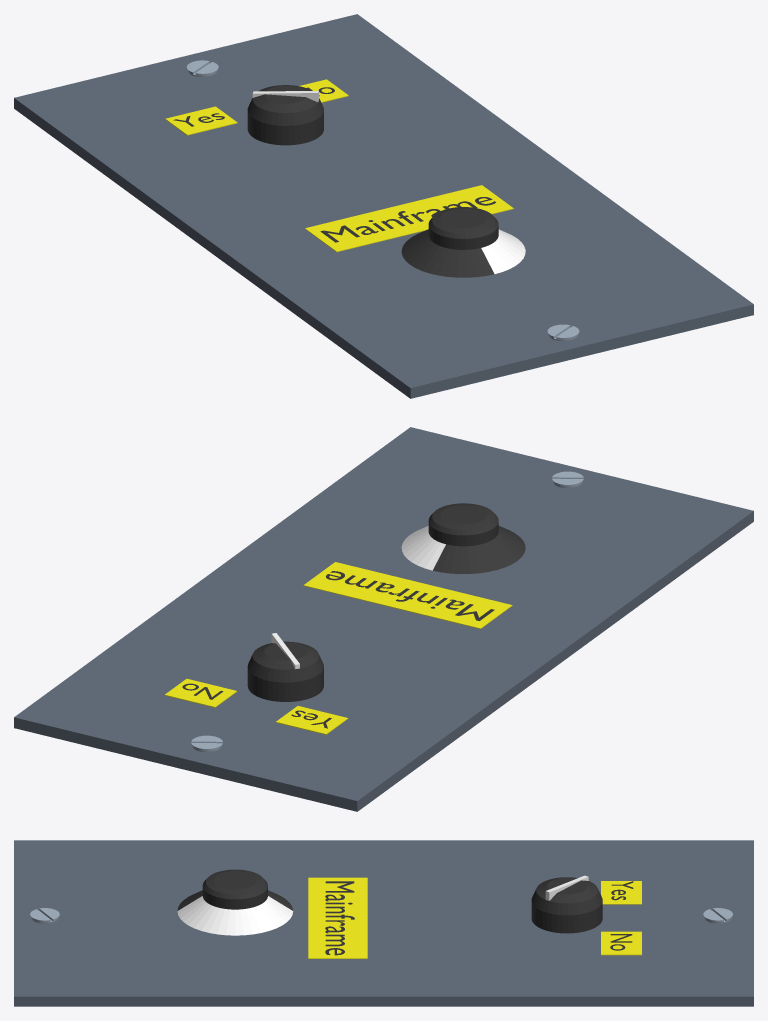
File: test button 1.fbx
The picture shows the model from 3 angles, top to bottom: view 1: azimuth 30°, elevation 25°; view 2: azimuth 150°, elevation 25°; view 3: azimuth 270°, elevation 25°; orthographic projection. The views are drawn at different scales.
Parts seen in each view (by area): view 1: Buttons; view 2: Buttons; view 3: Buttons.
Boxes of the visible parts, x1,y1,x2,y2 form: Buttons: (14, 14, 753, 398); Buttons: (14, 427, 753, 811); Buttons: (14, 840, 753, 1006).
Size of the model in its own units: 100 by 14.34 by 200.
